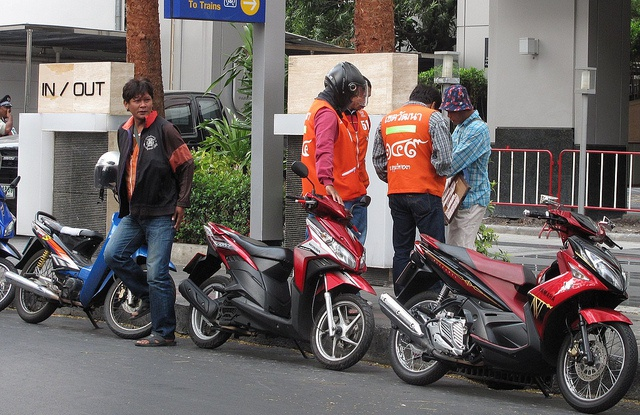non-vehicle: (374, 205, 639, 406), (177, 161, 379, 367), (4, 210, 177, 339)
